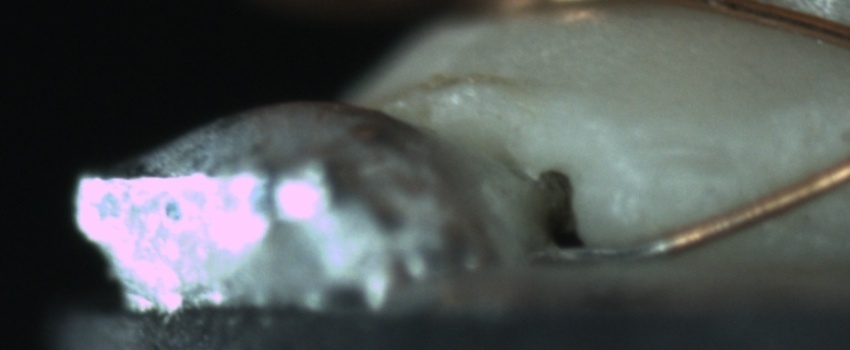DL: (628, 126, 762, 189)
TS: (537, 232, 671, 270)
